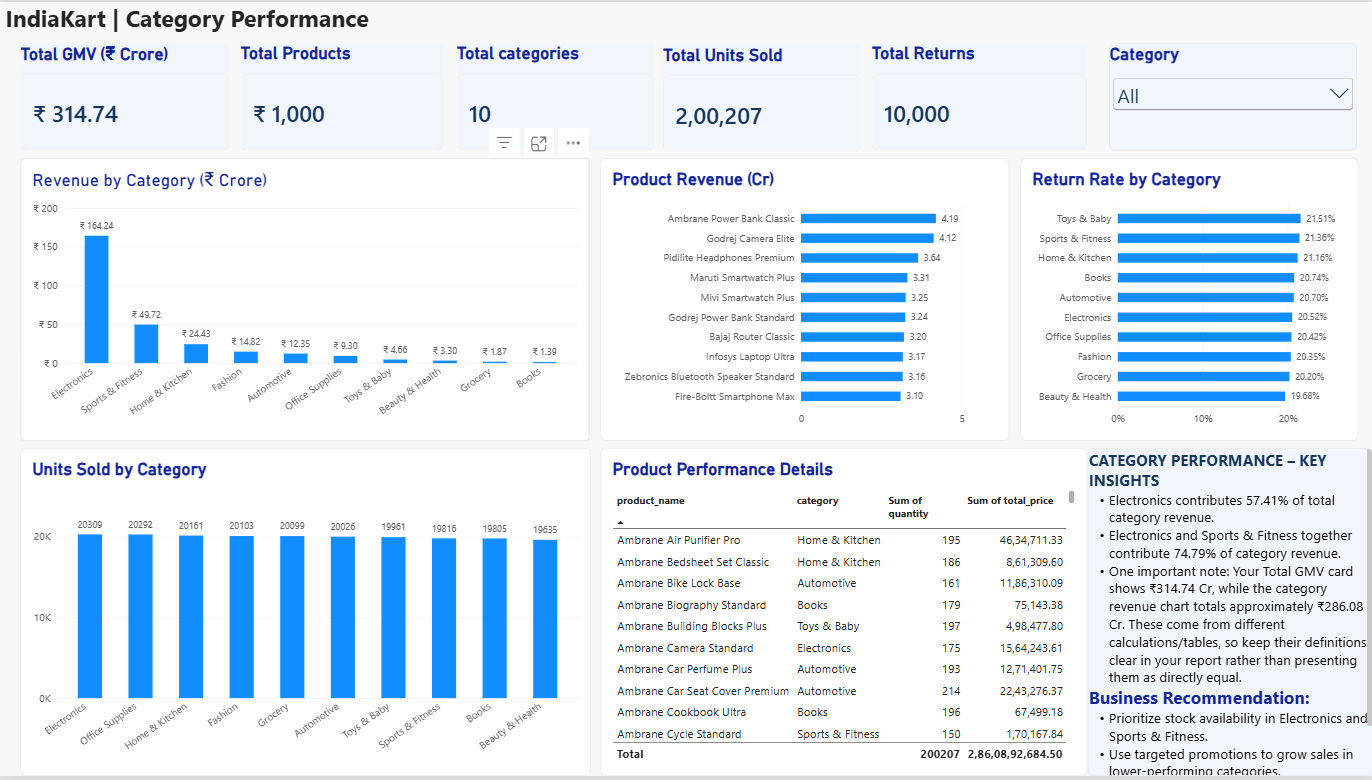

The dashboard page shown, as its layout file describes it:
{"tool":"powerbi","page":{"name":"Category Performance","canvas":[1920,1080],"ordinal":1},"visuals":[{"type":"textbox","box":[10.8,0,516.9,57.6],"z":0},{"type":"cardVisual","title":"Total GMV (₹ Crore)","fields":{"Data":["customers DA.Total GMV (Crore)"]},"box":[30.6,57.6,291.8,149.5],"z":1000},{"type":"cardVisual","title":"Total Products","fields":{"Data":["customers DA.Total Products"]},"box":[338.6,57.6,282.8,149.5],"z":2000},{"type":"cardVisual","title":"Total categories","fields":{"Data":["customers DA.Total Categories"]},"box":[639.4,57.6,275.6,149.5],"z":3000},{"type":"cardVisual","title":"Total Units Sold","fields":{"Data":["customers DA.Total Units Sold"]},"box":[927.6,59.4,275.6,149.5],"z":4000},{"type":"clusteredColumnChart","title":"Revenue by Category (₹ Crore)","fields":{"Category":["order_items DA.category"],"Y":["customers DA.Category Revenue (Crore)"]},"box":[30.6,217.8,794.5,394.7],"z":5000},{"type":"clusteredBarChart","title":"Product Revenue (Cr) ","fields":{"Category":["order_items DA.product_name"],"Y":["order_items DA.Product Revenue (Cr)"]},"box":[840.7,218,570.4,394.2],"z":6000},{"type":"clusteredBarChart","title":"Return Rate by Category ","fields":{"Category":["order_items DA.category"],"Y":["returns DA.Return Rate by Category"]},"box":[1426.7,218,470.9,394.2],"z":7000},{"type":"slicer","title":"Category","fields":{"Values":["order_items DA.category"]},"box":[1550.8,57.6,345.8,149.5],"z":8000},{"type":"clusteredColumnChart","title":"Units Sold by Category","fields":{"Category":["order_items DA.category"],"Y":["Sum(order_items DA.quantity)"]},"box":[30.6,623.2,796.1,457.5],"z":9000},{"type":"tableEx","title":"Product Performance Details","fields":{"Values":["order_items DA.product_name","order_items DA.category","Sum(order_items DA.quantity)","Sum(order_items DA.total_price)"]},"box":[841.1,623.2,679,457.5],"z":10000},{"type":"textbox","box":[1520.8,622.2,399.6,457.2],"z":11000},{"type":"cardVisual","title":"Total Returns","fields":{"Data":["returns DA.Total Returns"]},"box":[1219.4,57.6,300.8,149.5],"z":12000}]}

Visuals, with their boxes in screenshot pixels (x1, y1, x2, y2), scaled from the page's 1920x1080 canvas onto the 1372x780 screenshot:
textbox: (x1=8, y1=0, x2=377, y2=42)
"Total GMV (₹ Crore)" cardVisual: (x1=22, y1=42, x2=230, y2=150)
"Total Products" cardVisual: (x1=242, y1=42, x2=444, y2=150)
"Total categories" cardVisual: (x1=457, y1=42, x2=654, y2=150)
"Total Units Sold" cardVisual: (x1=663, y1=43, x2=860, y2=151)
"Revenue by Category (₹ Crore)" clusteredColumnChart: (x1=22, y1=157, x2=590, y2=442)
"Product Revenue (Cr) " clusteredBarChart: (x1=601, y1=157, x2=1008, y2=442)
"Return Rate by Category " clusteredBarChart: (x1=1019, y1=157, x2=1356, y2=442)
"Category" slicer: (x1=1108, y1=42, x2=1355, y2=150)
"Units Sold by Category" clusteredColumnChart: (x1=22, y1=450, x2=591, y2=779)
"Product Performance Details" tableEx: (x1=601, y1=450, x2=1086, y2=779)
textbox: (x1=1087, y1=449, x2=1371, y2=779)
"Total Returns" cardVisual: (x1=871, y1=42, x2=1086, y2=150)
